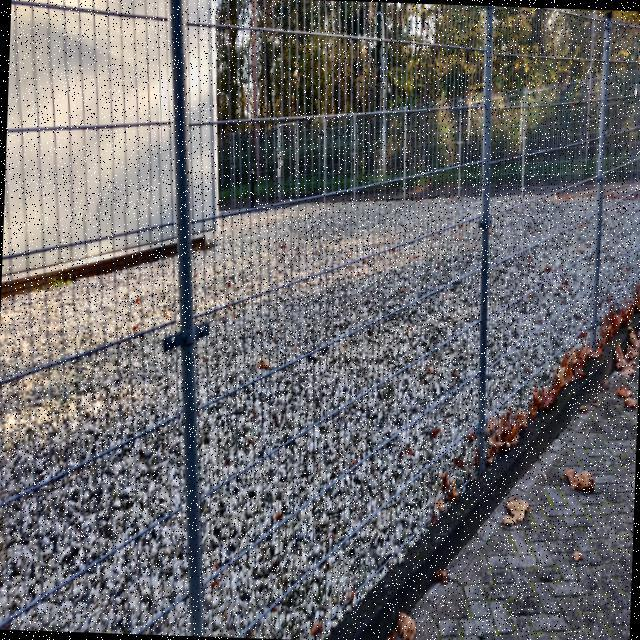fence line: (0, 5, 409, 639), (289, 4, 639, 573)
